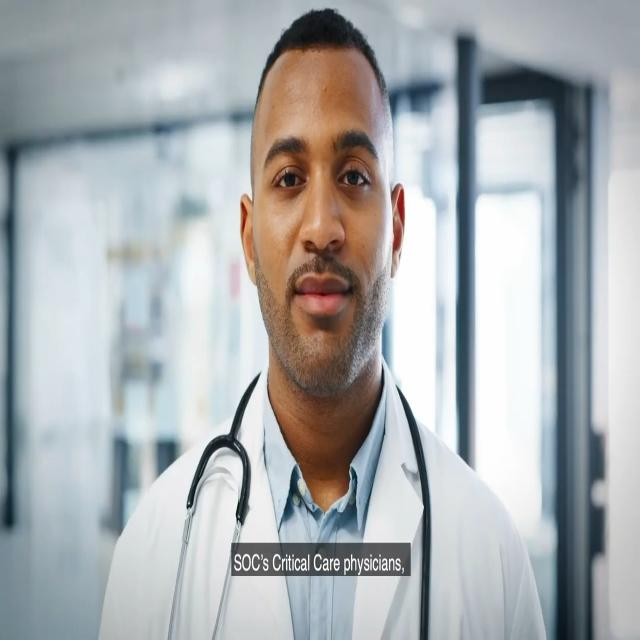Doctor: (184, 0, 536, 531)
